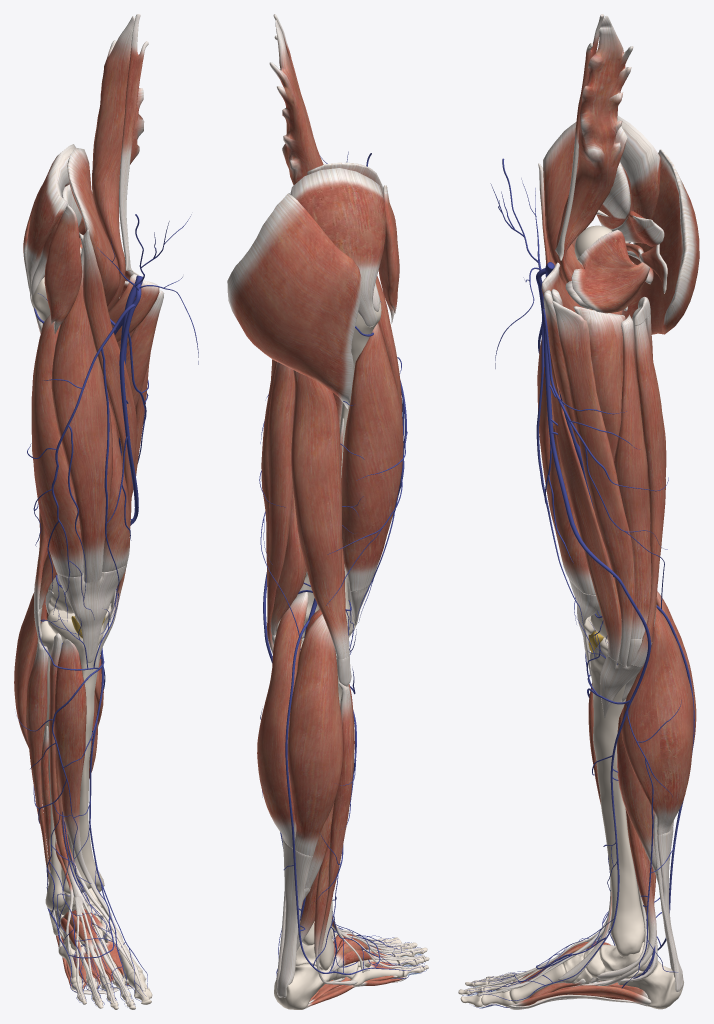
The model's file is legs.glb.
3 views of the same model, side by side, from view 1: azimuth 30°, elevation 25°; view 2: azimuth 150°, elevation 25°; view 3: azimuth 270°, elevation 25° (orthographic). The views are drawn at different scales.
Parts seen in each view (by area): view 1: Rectus femoris.r, Vastus lateralis muscle.r, Psoas major.r, Tibialis anterior muscle.r, Sartorius muscle.r, Tibia.r, Tensor fasciae latae.r, Iliacus muscle.r, Gluteus medius muscle.r, Fibularis longus muscle.r, Quadriceps common tendon and patellar ligament.r, Vastus medialis muscle.r (+18 smaller); view 2: Gluteus maximus muscle.r, Vastus lateralis muscle.r, Long head of biceps femoris.r, Lateral head of gastrocnemius.r, Gluteus medius muscle.r, Medial head of gastrocnemius.r, Semitendinosus muscle.r, Psoas major.r, Semimembranosus muscle.r, Fibularis longus muscle.r, Calcaneal tendon.r, Tensor fasciae latae.r (+15 smaller); view 3: Medial head of gastrocnemius.r, Gracilis muscle.r, Psoas major.r, Tibia.r, Semimembranosus muscle.r, Gluteus maximus muscle.r, Sartorius muscle.r, Semitendinosus muscle.r, Obturator internus.r, Adductor magnus.r, Iliacus muscle.r, Gluteus medius muscle.r (+28 smaller).
Part boxes in pixels (x1,y1,x2,y2): Rectus femoris.r: (51,247,112,582); Vastus lateralis muscle.r: (31,315,83,577); Psoas major.r: (92,16,144,311); Tibialis anterior muscle.r: (54,639,118,930); Sartorius muscle.r: (79,229,136,613); Tibia.r: (47,605,111,893); Tensor fasciae latae.r: (44,205,82,333); Iliacus muscle.r: (67,147,119,306); Gluteus medius muscle.r: (26,144,75,307); Fibularis longus muscle.r: (26,639,63,939); Quadriceps common tendon and patellar ligament.r: (57,565,126,662); Vastus medialis muscle.r: (102,396,129,572); Gluteus maximus muscle.r: (227,193,362,408); Vastus lateralis muscle.r: (341,323,403,591); Long head of biceps femoris.r: (291,370,349,659); Lateral head of gastrocnemius.r: (287,614,342,856); Gluteus medius muscle.r: (290,168,385,327); Medial head of gastrocnemius.r: (257,592,308,848); Semitendinosus muscle.r: (267,362,294,654); Psoas major.r: (269,20,323,185); Semimembranosus muscle.r: (261,361,306,635); Fibularis longus muscle.r: (318,682,353,982); Calcaneal tendon.r: (277,839,312,997); Tensor fasciae latae.r: (378,185,399,323); Medial head of gastrocnemius.r: (621,607,693,835); Gracilis muscle.r: (552,301,634,665); Psoas major.r: (556,15,633,283); Tibia.r: (590,637,644,957); Semimembranosus muscle.r: (614,314,659,638); Gluteus maximus muscle.r: (622,149,699,334); Sartorius muscle.r: (538,163,621,661); Semitendinosus muscle.r: (631,319,665,666); Obturator internus.r: (571,229,649,313); Adductor magnus.r: (573,306,625,500); Iliacus muscle.r: (543,121,627,273); Gluteus medius muscle.r: (617,116,660,243).
Bounding box in the file's own units: 0.162 × 1.15 × 0.2463.
Materials: 39 (5 with a texture image).
